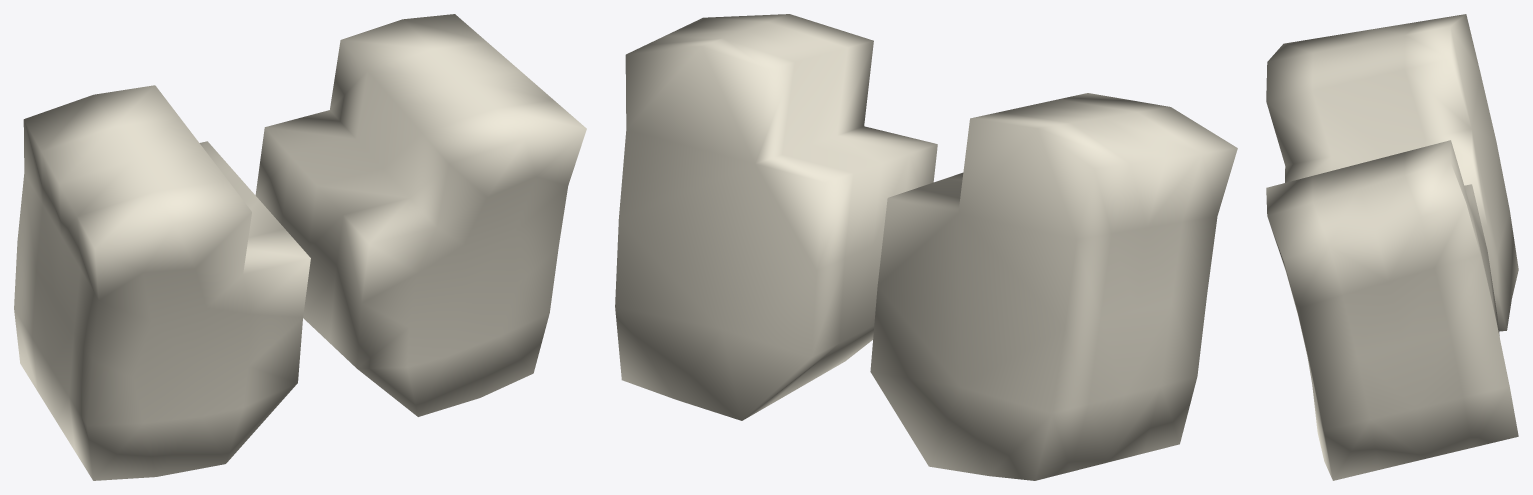
Rendered from fma59433_mm920.glb.
3 renders of one model, left to right at view 1: azimuth 30°, elevation 25°; view 2: azimuth 150°, elevation 25°; view 3: azimuth 270°, elevation 25°, orthographic. The views are drawn at different scales.
Parts seen in each view (by area): view 1: FMA59433_MM920; view 2: FMA59433_MM920; view 3: FMA59433_MM920.
Part boxes in pixels (x1,y1,x2,y2): FMA59433_MM920: (14, 14, 586, 480); FMA59433_MM920: (615, 14, 1237, 480); FMA59433_MM920: (1266, 14, 1518, 480).
Bounding box in the file's own units: 0.0036 × 0.00231 × 0.00178.
